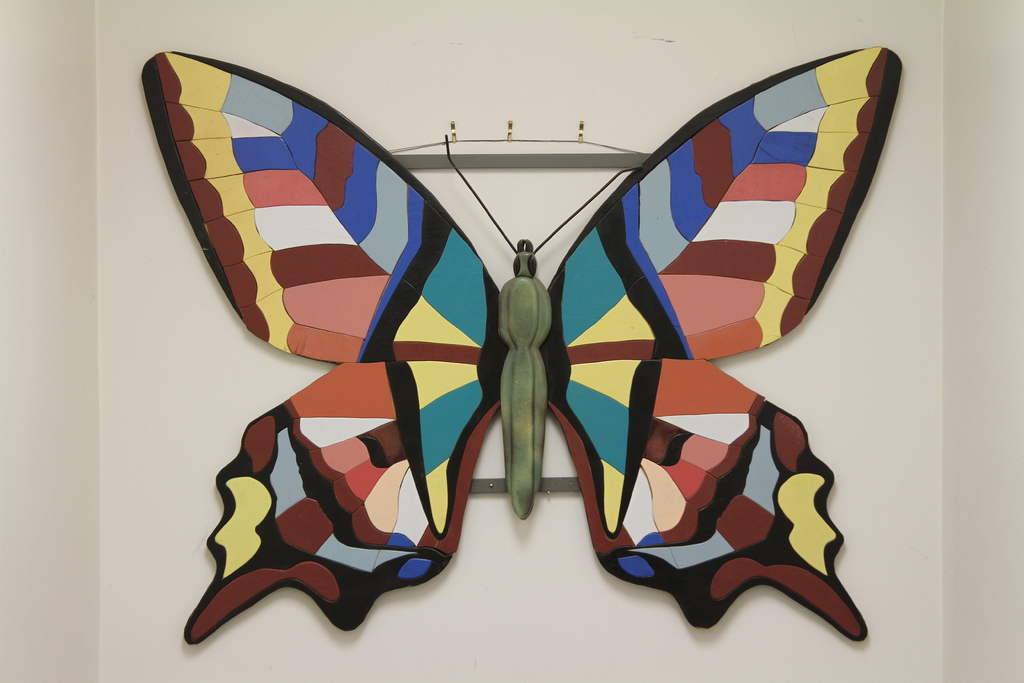Butterfly: (130, 33, 917, 658)
